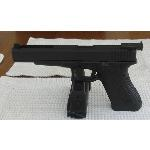Pistol: (12, 40, 142, 112)
